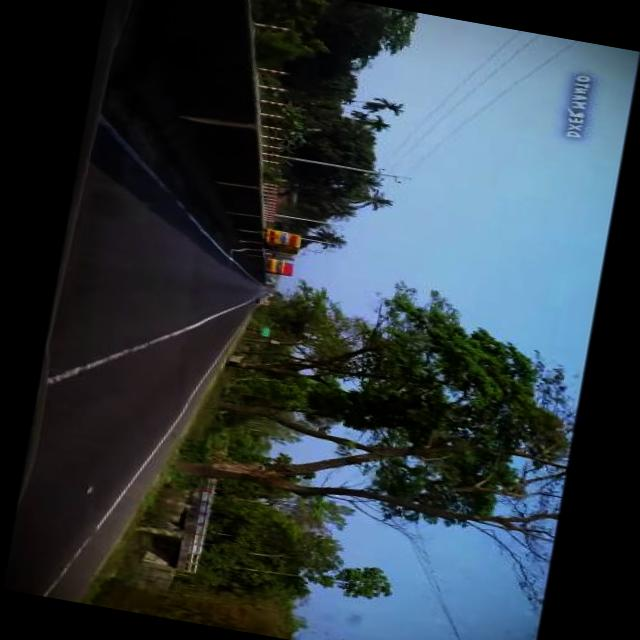truck: (260, 228, 302, 257), (262, 257, 298, 280)
